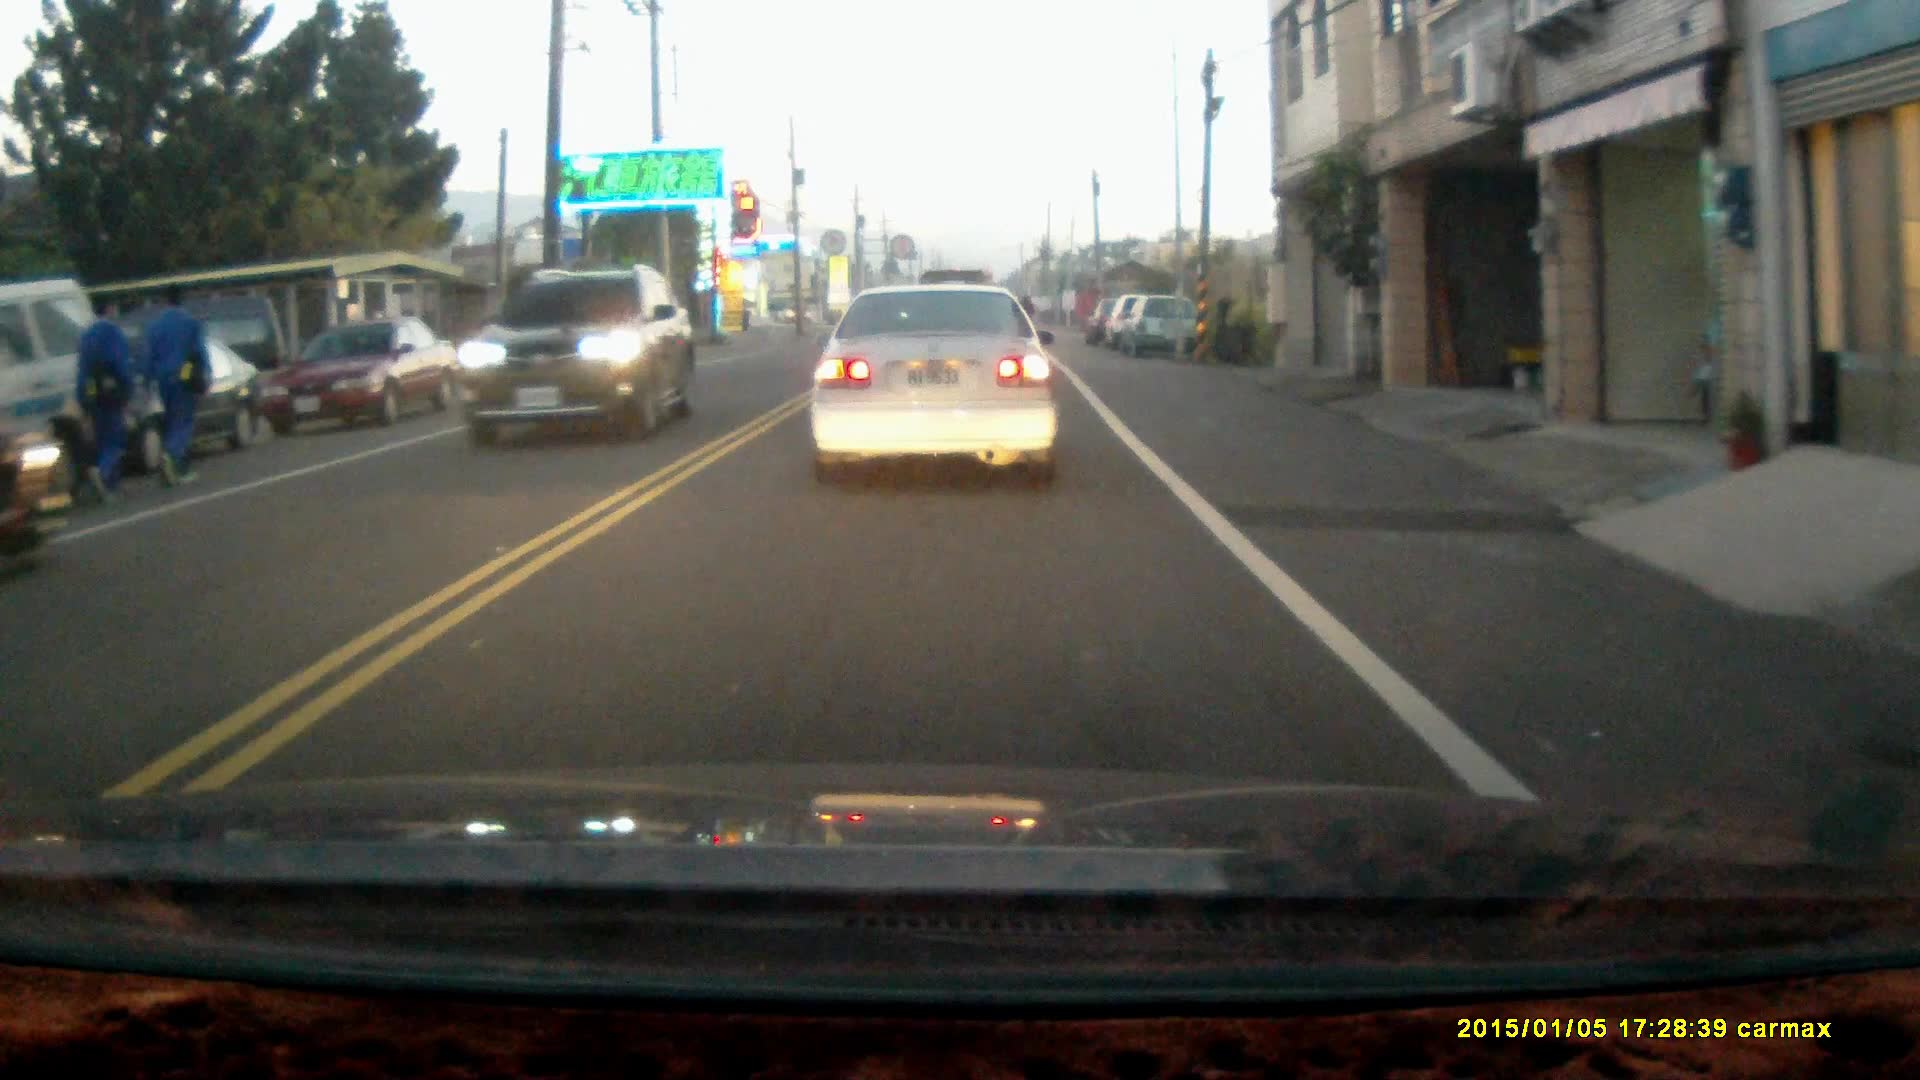pedestrian: (65, 288, 138, 503), (141, 283, 213, 491)
vehicle: (805, 281, 1064, 490), (461, 264, 698, 450), (37, 319, 278, 480), (1, 273, 129, 518), (279, 314, 461, 439), (1118, 294, 1204, 361)
